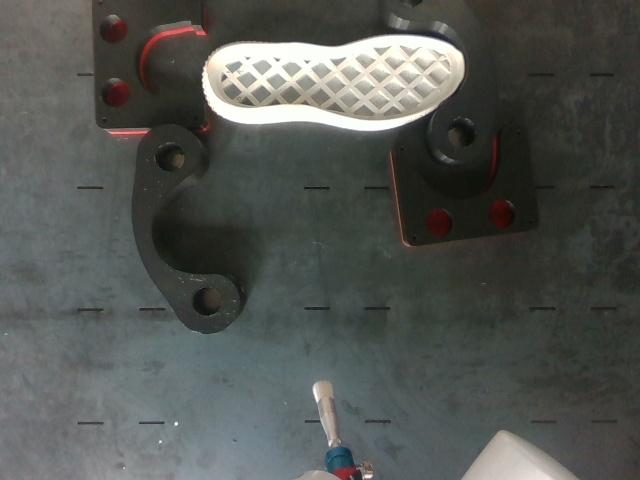shoes: (205, 37, 464, 121)
